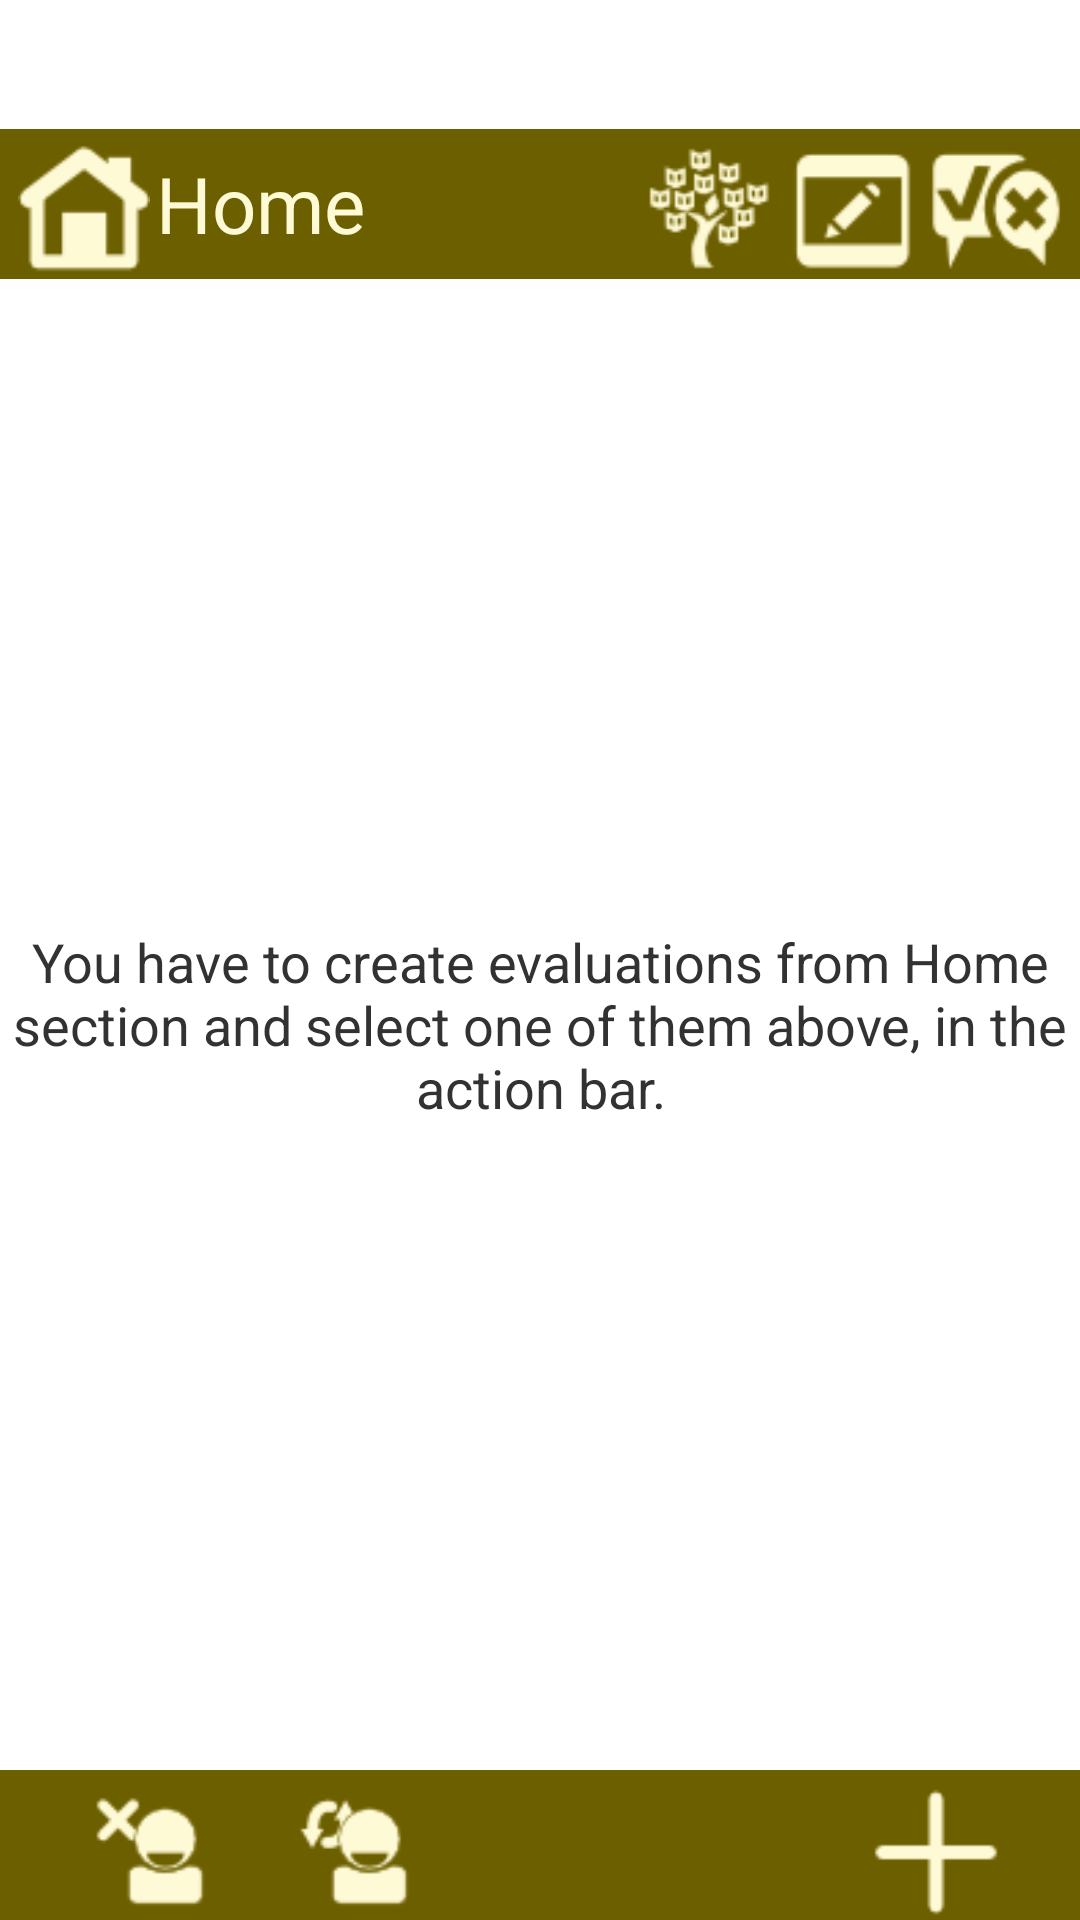

Icon bounding boxes for this 1080w x 1920h phone screenshot, format [x1=x1, y1=y1, x2=x2, y2=y2]:
add: [x1=874, y1=1790, x2=998, y2=1915]
attitude: [x1=932, y1=153, x2=1060, y2=268]
concept: [x1=649, y1=149, x2=769, y2=269]
del user: [x1=96, y1=1798, x2=203, y2=1904]
procedure: [x1=796, y1=154, x2=911, y2=269]
update user: [x1=300, y1=1799, x2=407, y2=1904]
